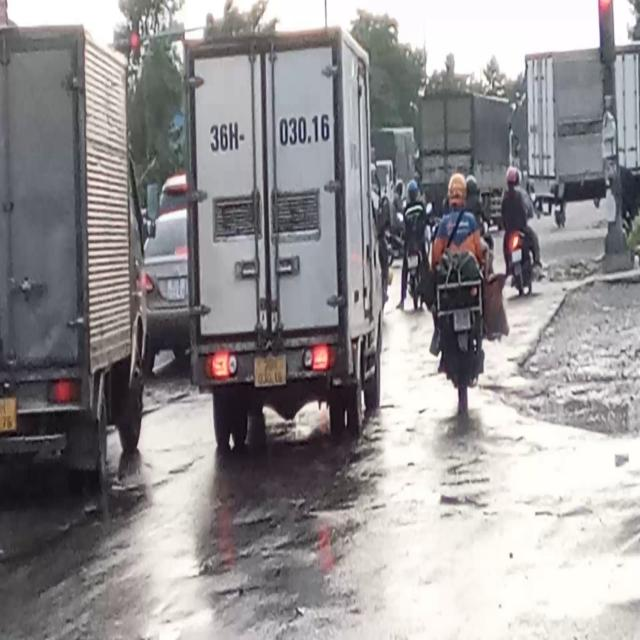bien_vang: (250, 352, 288, 391), (0, 395, 16, 434)
